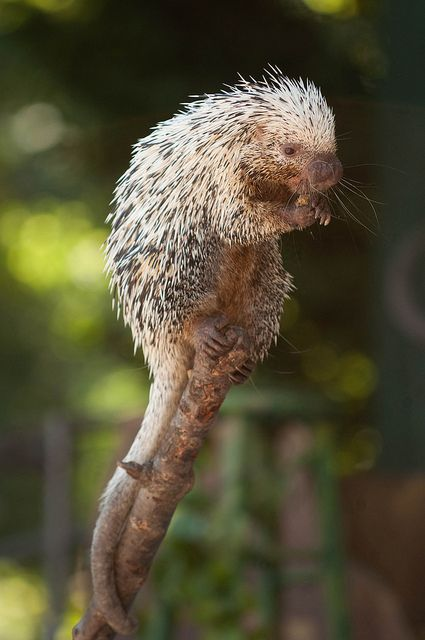porcupine: (65, 67, 351, 612)
